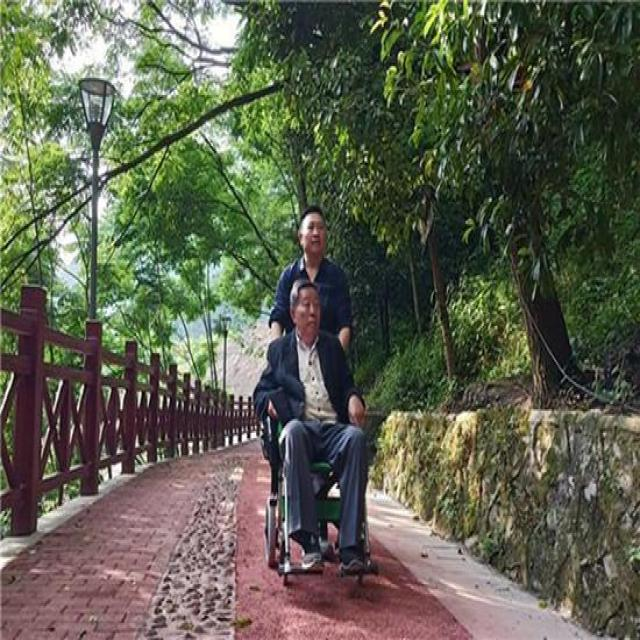wheelchairs: (256, 376, 383, 594)
